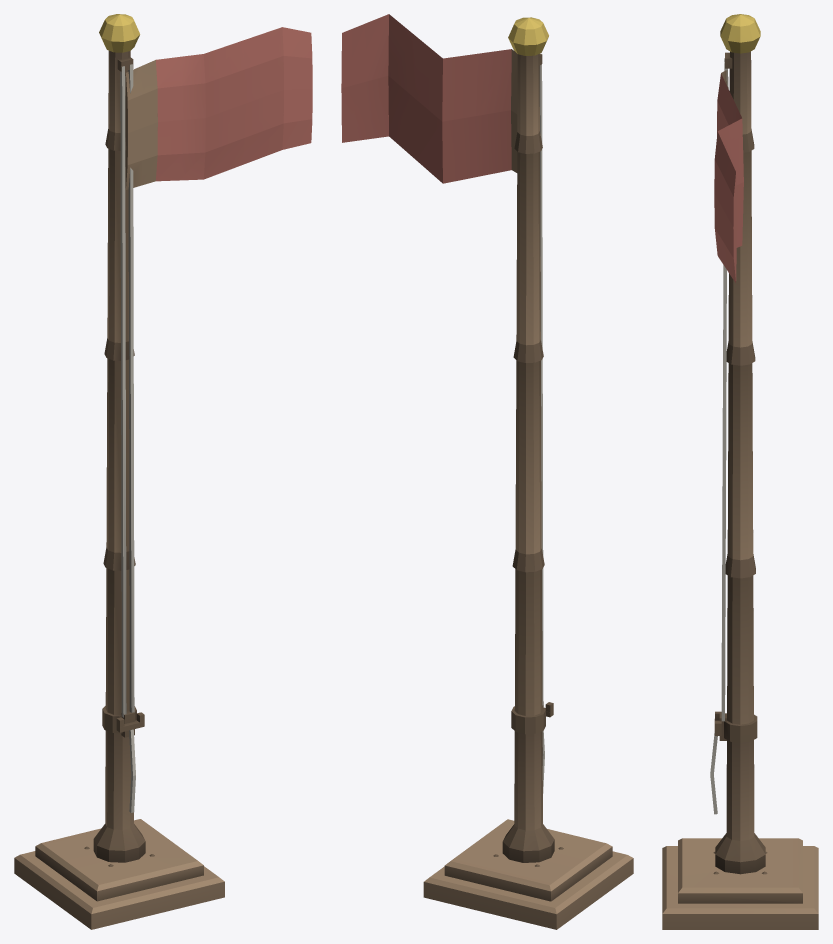
File: flag.glb
3 renders of one model, left to right at view 1: azimuth 30°, elevation 25°; view 2: azimuth 150°, elevation 25°; view 3: azimuth 270°, elevation 25°, orthographic.
Visible parts, largest first — view 1: flag.001; view 2: flag.001; view 3: flag.001.
Boxes of the visible parts, x1,y1,x2,y2 form: flag.001: (14,14,312,929); flag.001: (341,14,633,929); flag.001: (662,14,818,929).
Bounding box in the file's own units: 2.69 × 8.73 × 1.4.
